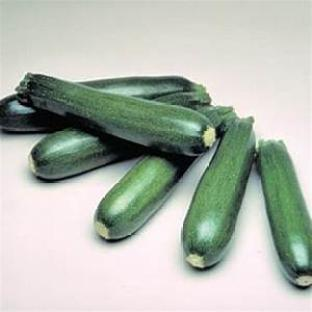Zucchini: (17, 74, 215, 154), (183, 118, 254, 268), (94, 153, 195, 240), (257, 141, 311, 287), (30, 128, 144, 179), (81, 76, 211, 107), (0, 95, 64, 133)
